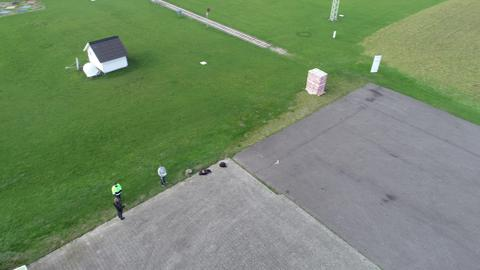RockwoolPallet: (305, 68, 330, 96)
